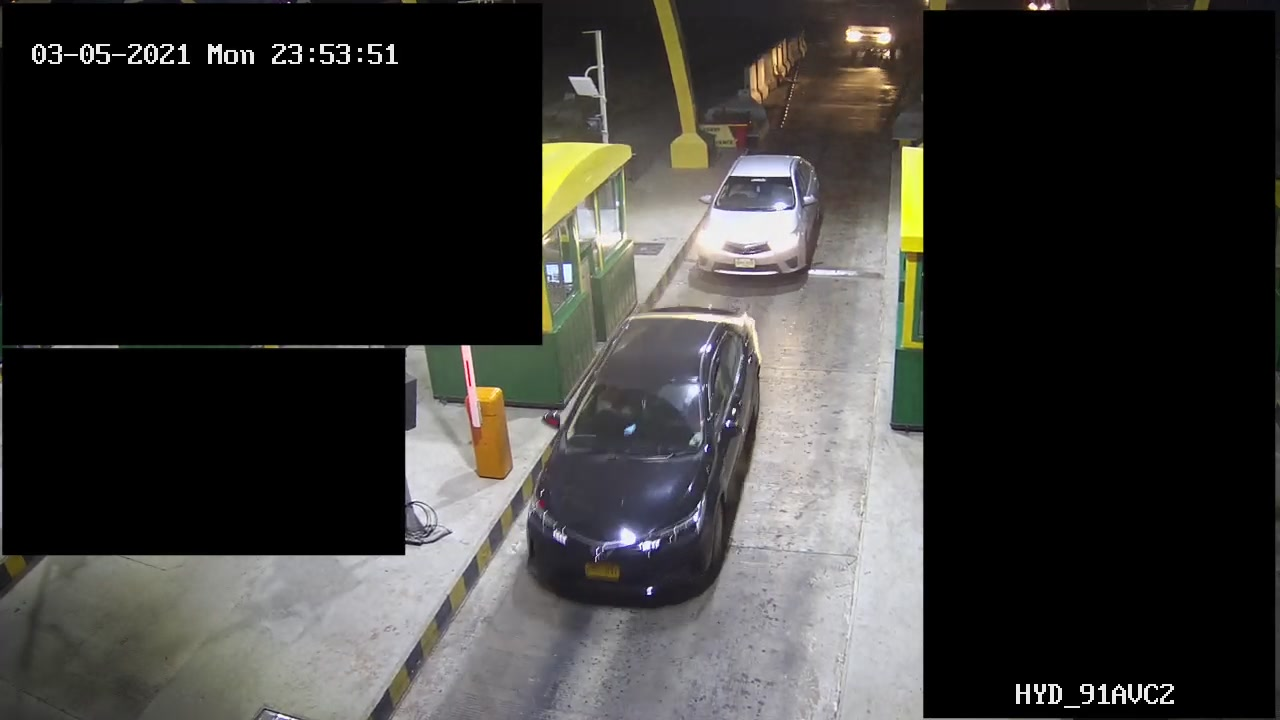F1: (519, 300, 758, 619), (688, 145, 829, 283)
